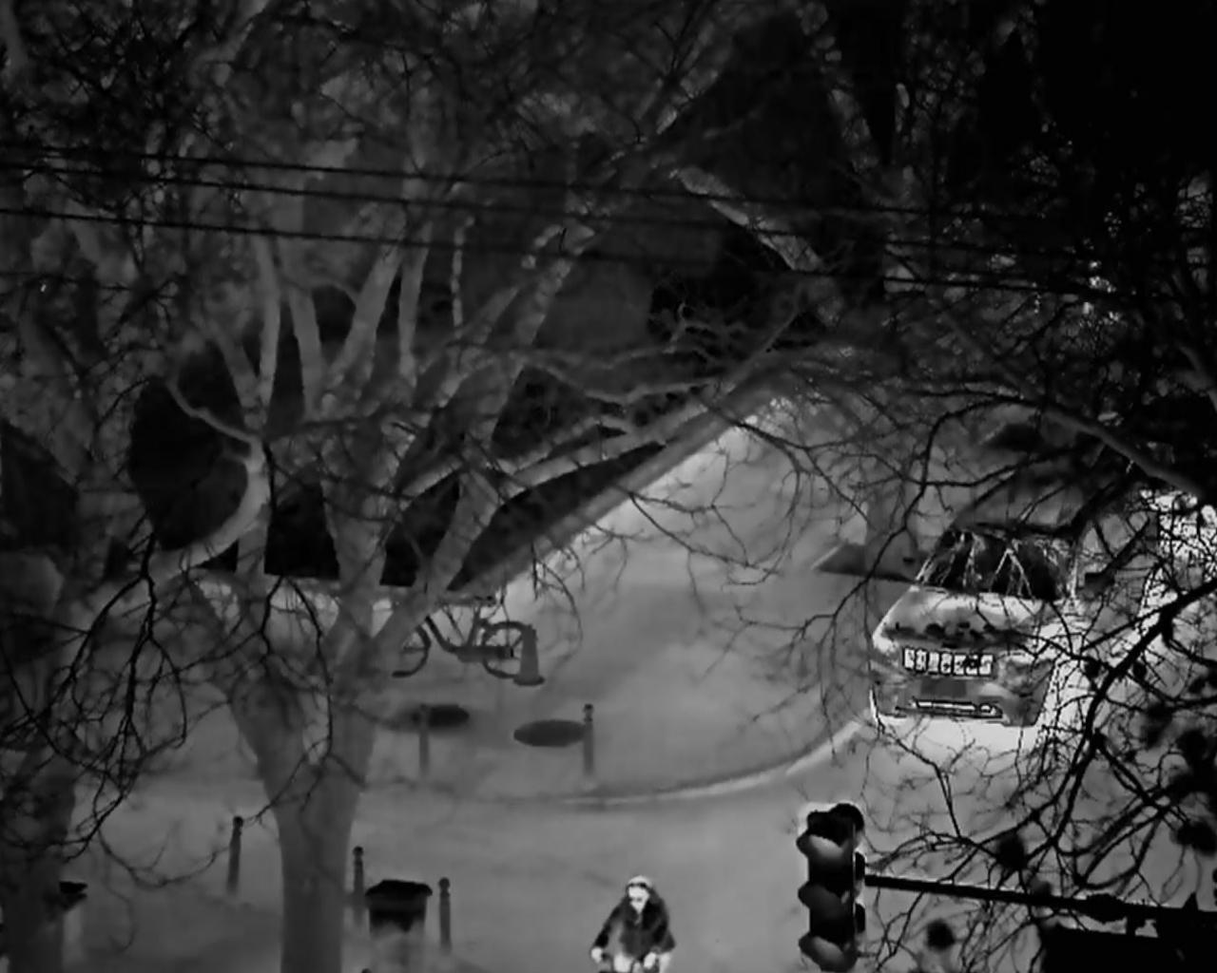person: (588, 873, 675, 973)
